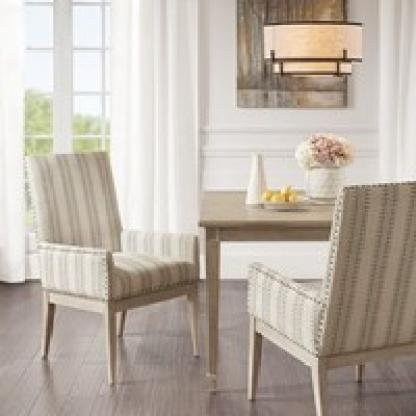chair: (24, 149, 208, 390), (247, 163, 416, 416)
light: (252, 0, 376, 95)
